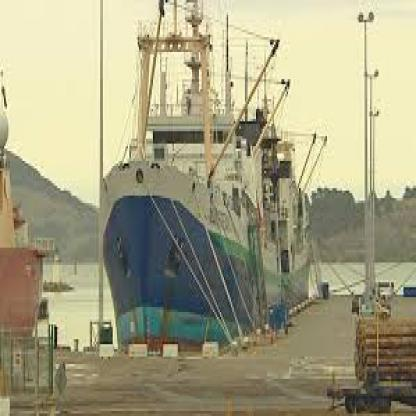fish-b: (92, 5, 325, 359)
